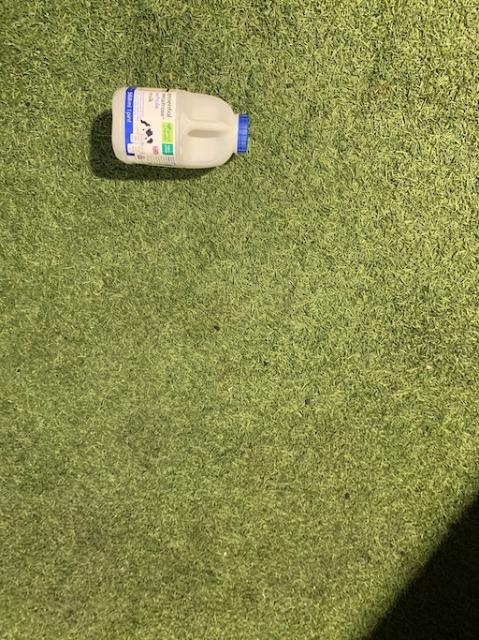plastic: (112, 86, 246, 166)
